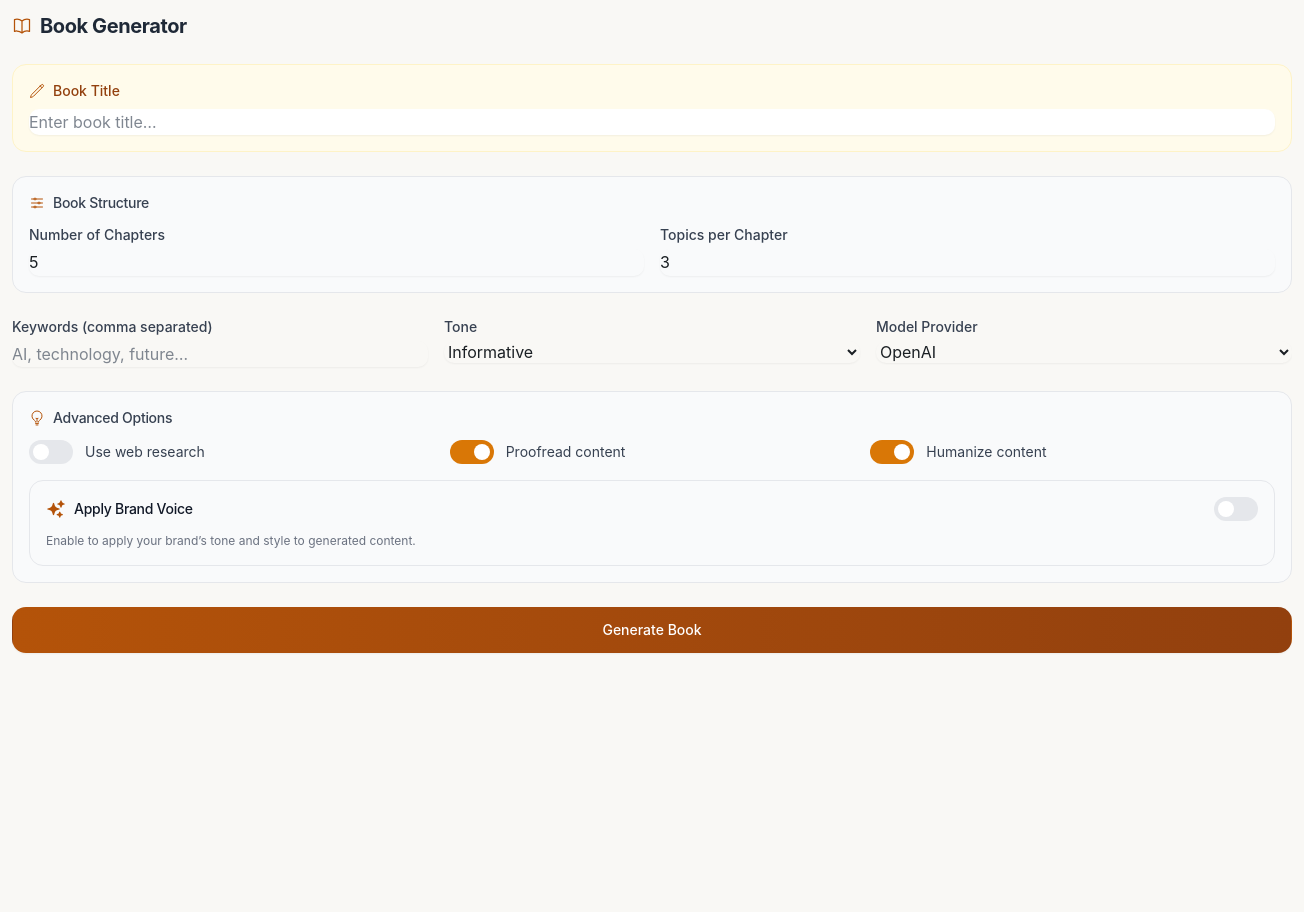
Test: BookGenerator › Error Handling › should map 401/403 responses to sign-in message
Type "Auth Book" into the field labelled "Book Title" at (652, 122), box [29,109,1275,135]
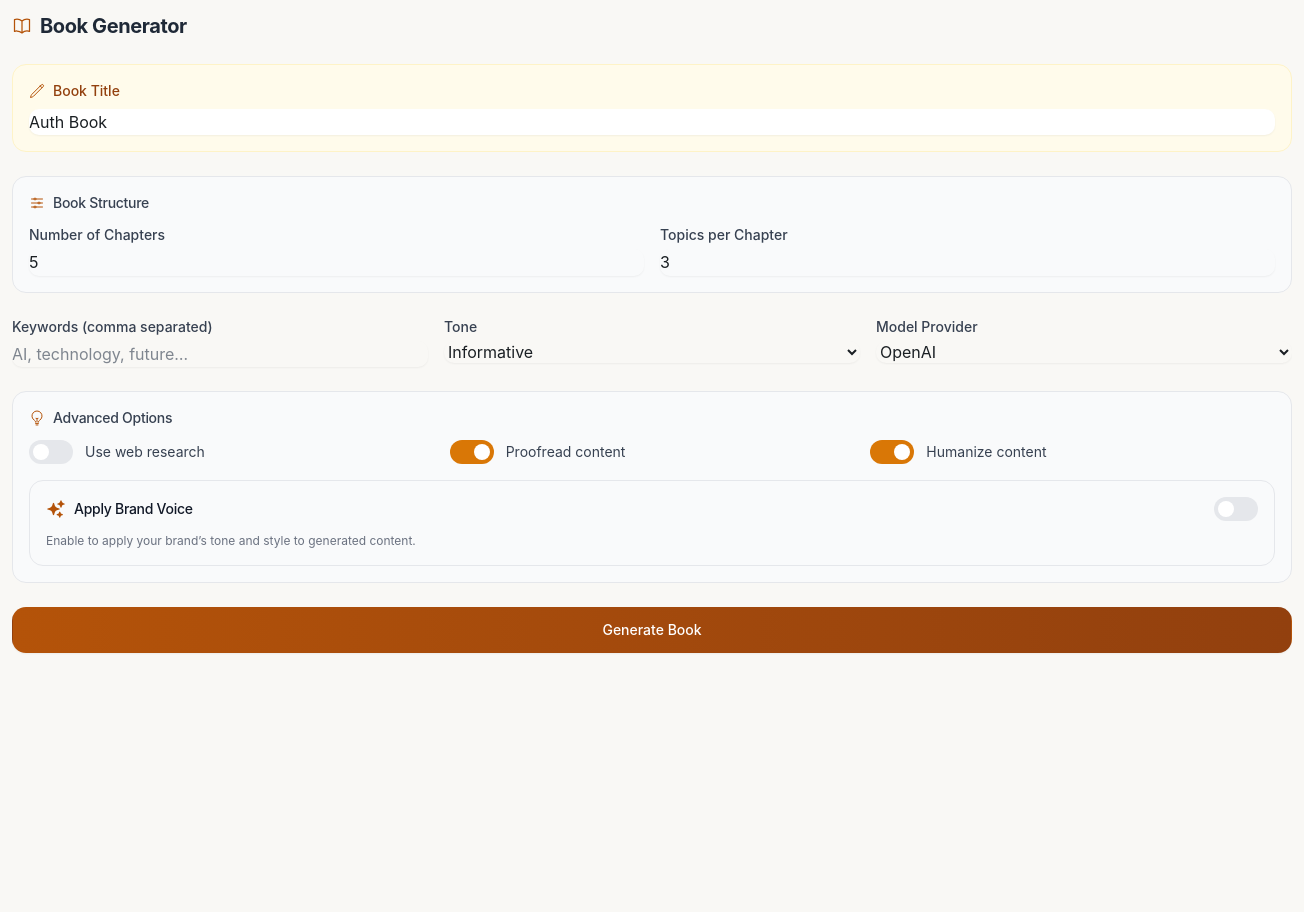
Submit the form from the button "Generate Book", box [12,607,1292,653]
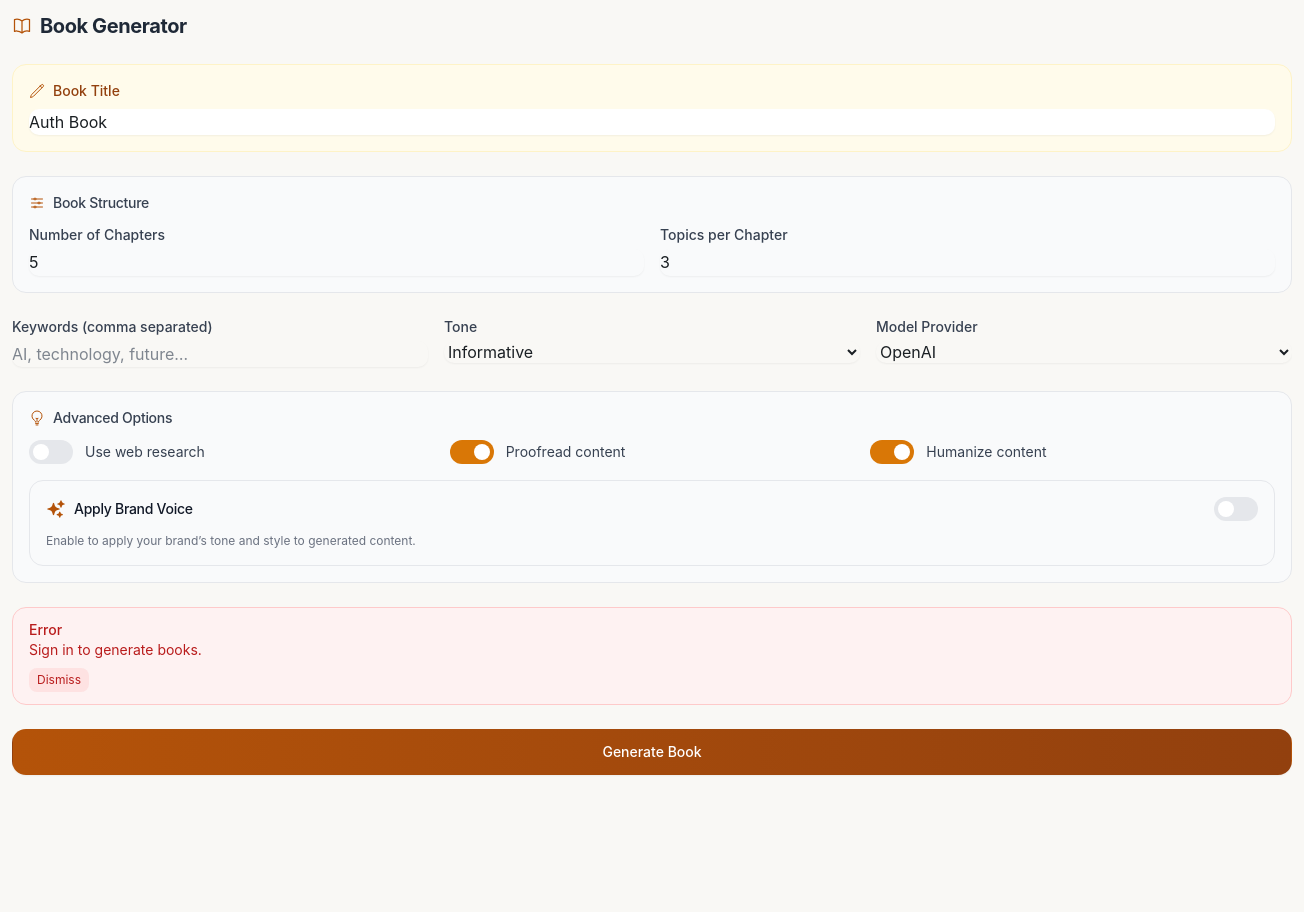
Expected: the text "Sign in to generate books." is shown, [29,641,202,658]
